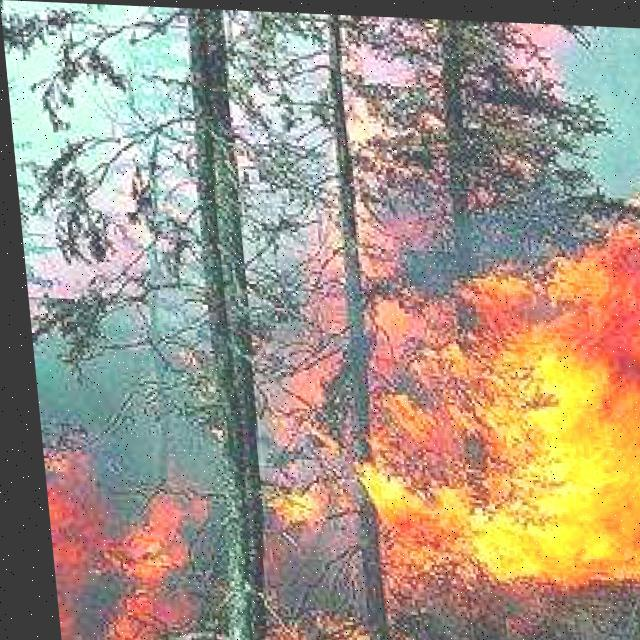Fire: (266, 180, 639, 593), (94, 473, 218, 639)
